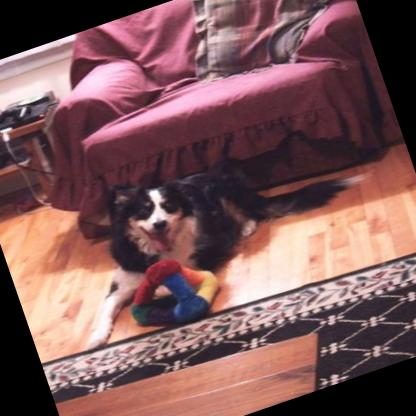Border_collie: (32, 97, 400, 357)
